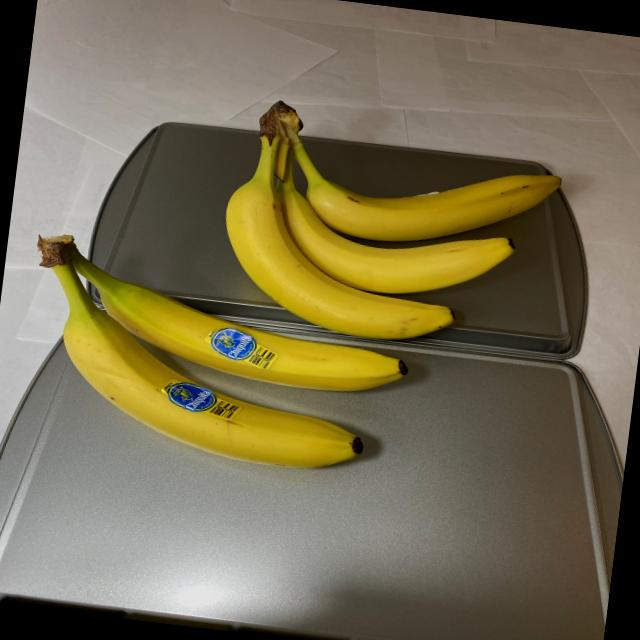banana: (9, 231, 426, 482), (206, 90, 574, 358)
